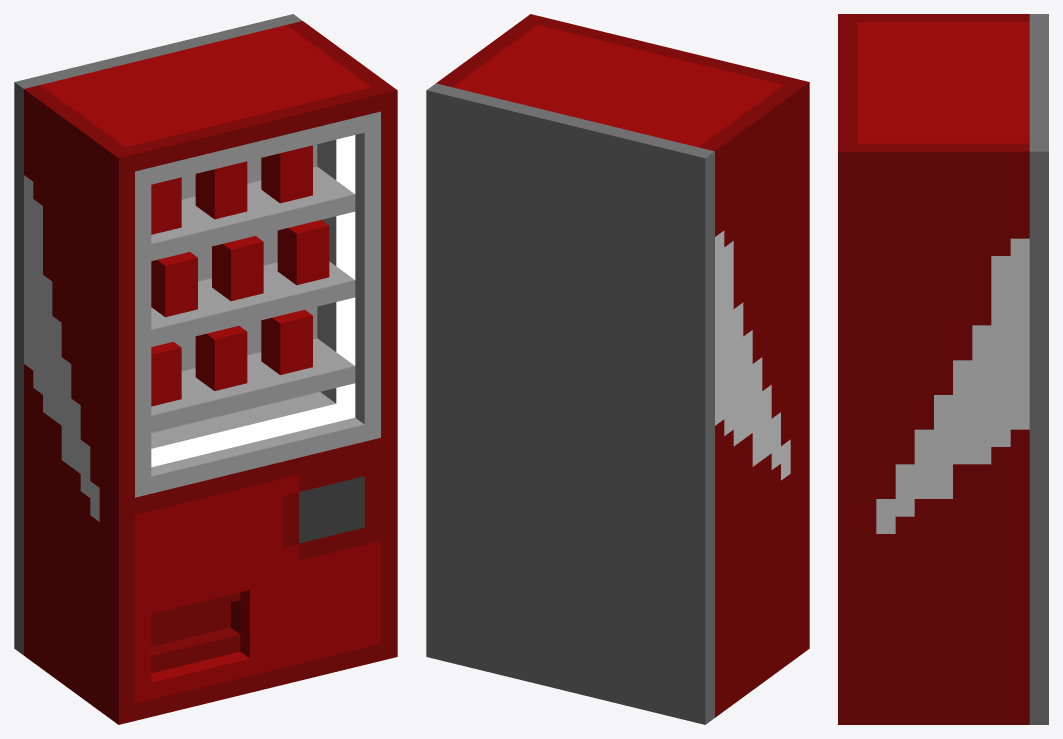
The model's file is vendingMachine.glb.
3 views of the same model, side by side, from view 1: azimuth 30°, elevation 25°; view 2: azimuth 150°, elevation 25°; view 3: azimuth 270°, elevation 25° (orthographic).
Visible parts, largest first — view 1: ObjObject; view 2: ObjObject; view 3: ObjObject.
Part boxes in pixels (<box>): ObjObject: <box>14,14,397,724</box>; ObjObject: <box>426,14,809,724</box>; ObjObject: <box>838,14,1048,724</box>.
Size of the model in its own units: 1.7 by 3.3 by 1.1.
2 materials, 1 textured.
